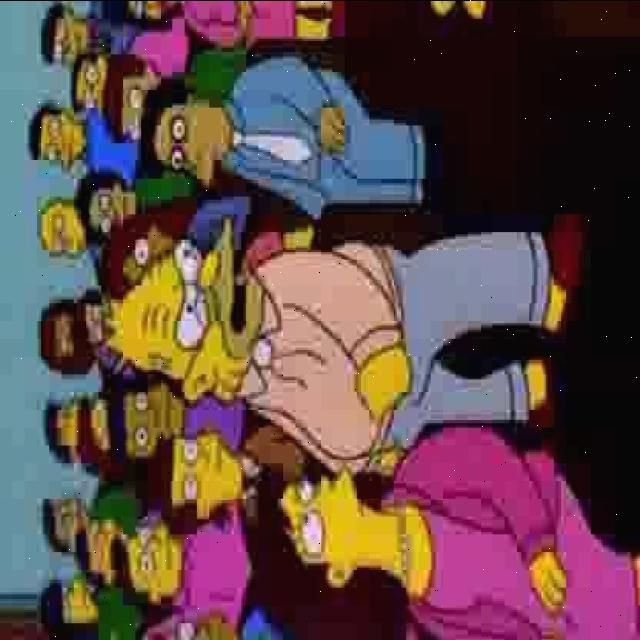Abraham Grampa Simpson: (104, 210, 268, 408)
